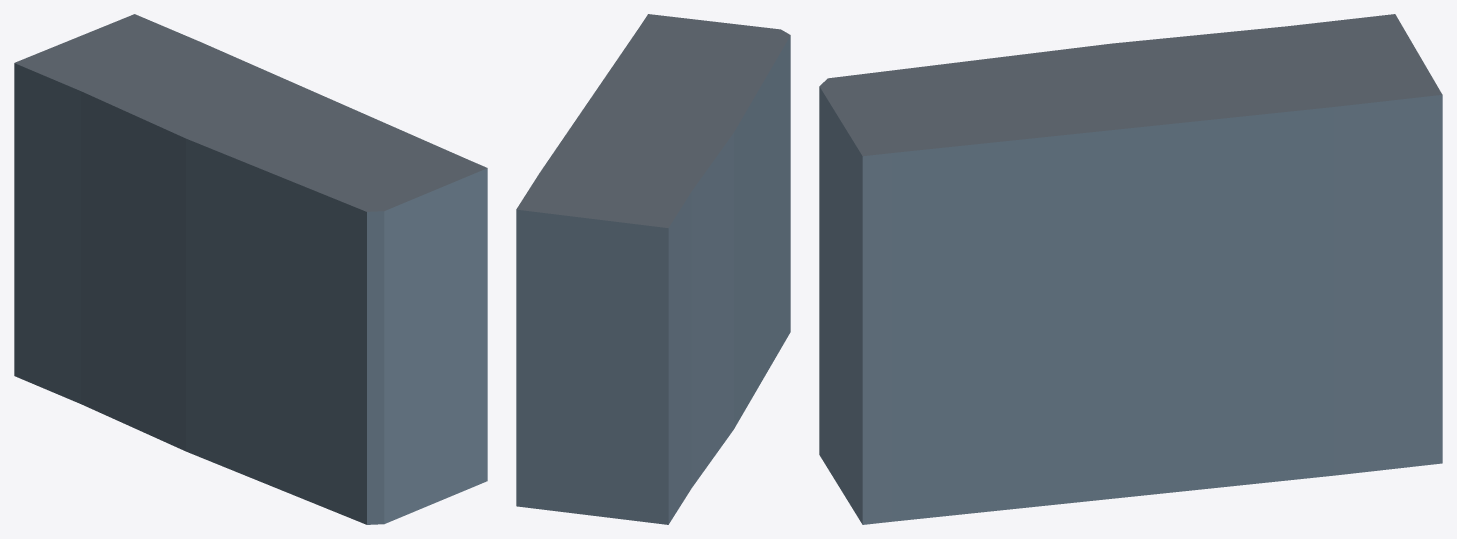
3 views of the same model, side by side, from view 1: azimuth 30°, elevation 25°; view 2: azimuth 150°, elevation 25°; view 3: azimuth 270°, elevation 25° (orthographic). The views are drawn at different scales.
Parts seen in each view (by area): view 1: HP-w490270436; view 2: HP-w490270436; view 3: HP-w490270436.
Boxes of the visible parts, <box> form: HP-w490270436: <box>14,14,487,524</box>; HP-w490270436: <box>516,14,790,524</box>; HP-w490270436: <box>819,14,1442,524</box>.
Bounding box in the file's own units: 81.94 × 99 × 152.
